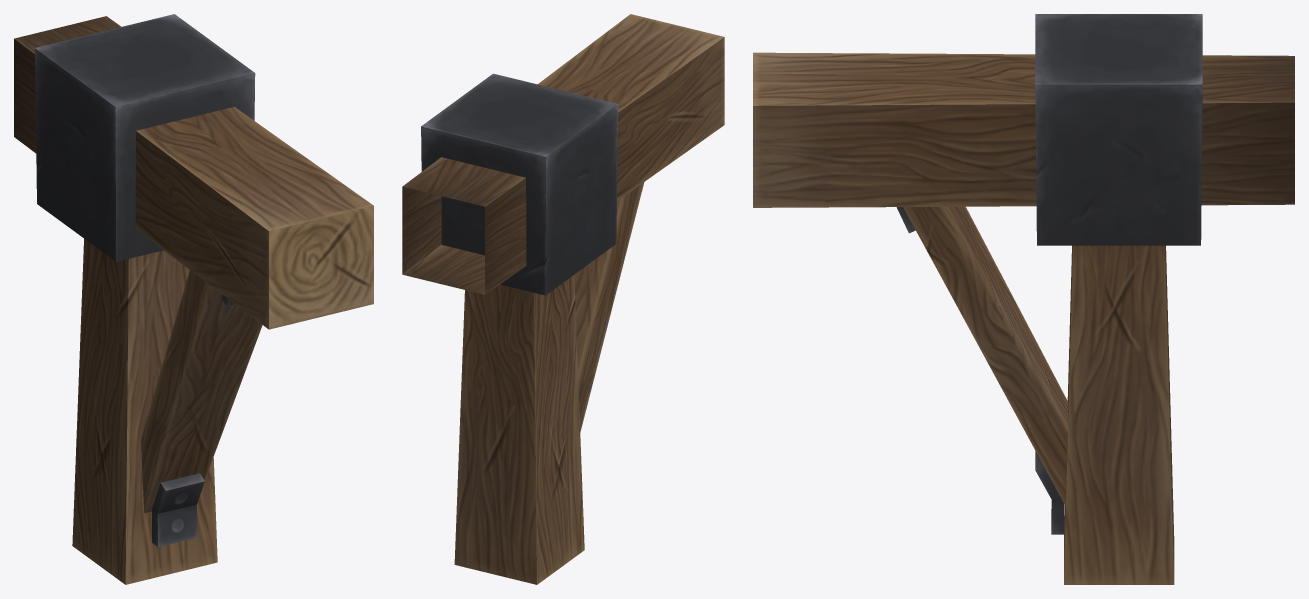
File: Mine_Beam1.fbx
3 views of the same model, side by side, from view 1: azimuth 30°, elevation 25°; view 2: azimuth 150°, elevation 25°; view 3: azimuth 270°, elevation 25° (orthographic). The views are drawn at different scales.
Visible parts, largest first — view 1: polySurface1610; view 2: polySurface1610; view 3: polySurface1610.
Boxes of the visible parts, x1,y1,x2,y2 form: polySurface1610: (14,14,373,584); polySurface1610: (402,14,724,584); polySurface1610: (753,14,1294,584).
Size of the model in its own units: 29.34 by 99.11 by 95.03.
Materials: 1 (1 with a texture image).
